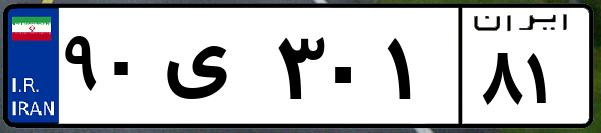0: (330, 28, 385, 110), (110, 28, 158, 98)
1: (385, 28, 445, 110), (525, 38, 570, 115)
3: (270, 28, 330, 110)
8: (475, 38, 525, 113)
9: (57, 26, 110, 100)
ی: (158, 20, 270, 120)
